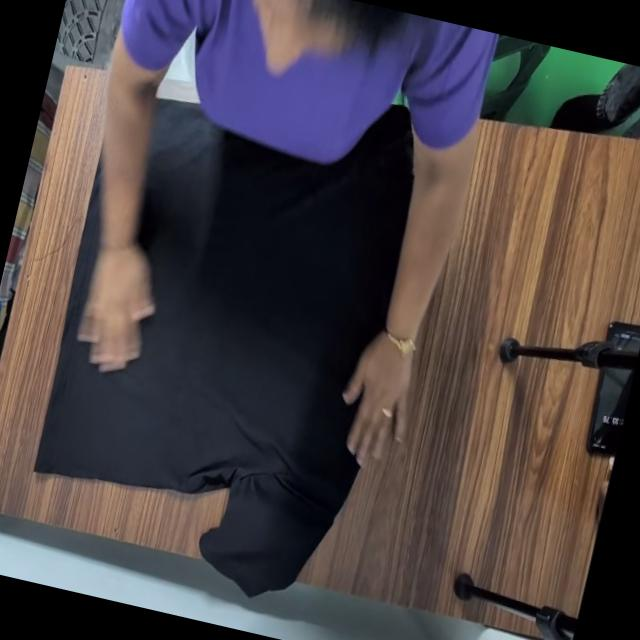new-garment: (35, 100, 410, 593)
